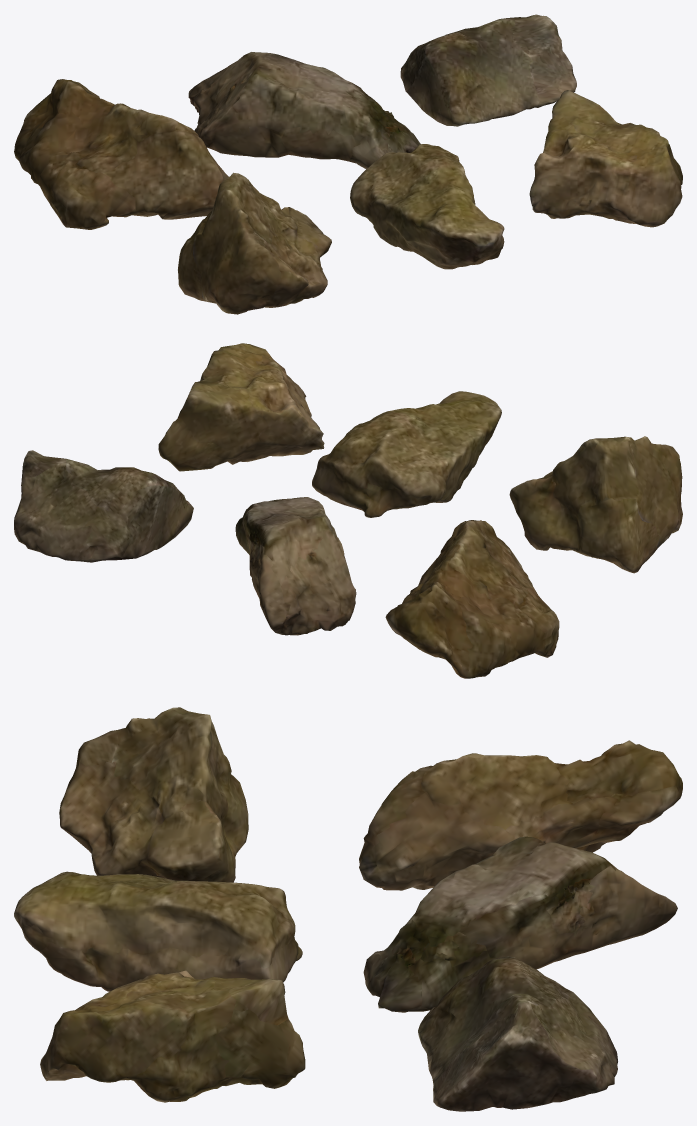
The model's file is rock_moss_set_01.glb.
The picture shows the model from 3 angles, top to bottom: view 1: azimuth 30°, elevation 25°; view 2: azimuth 150°, elevation 25°; view 3: azimuth 270°, elevation 25°; orthographic projection. The views are drawn at different scales.
Parts seen in each view (by area): view 1: rock_moss_set_01_rock01, rock_moss_set_01_rock02, rock_moss_set_01_rock06, rock_moss_set_01_rock04, rock_moss_set_01_rock03, rock_moss_set_01_rock05; view 2: rock_moss_set_01_rock04, rock_moss_set_01_rock01, rock_moss_set_01_rock05, rock_moss_set_01_rock03, rock_moss_set_01_rock06, rock_moss_set_01_rock02; view 3: rock_moss_set_01_rock01, rock_moss_set_01_rock02, rock_moss_set_01_rock05, rock_moss_set_01_rock04, rock_moss_set_01_rock06, rock_moss_set_01_rock03.
Part boxes in pixels (x1,y1,x2,y2): rock_moss_set_01_rock01: (14,79,228,229); rock_moss_set_01_rock02: (188,52,420,168); rock_moss_set_01_rock06: (529,90,682,227); rock_moss_set_01_rock04: (178,172,331,314); rock_moss_set_01_rock03: (400,14,576,126); rock_moss_set_01_rock05: (350,144,504,269); rock_moss_set_01_rock04: (509,436,682,573); rock_moss_set_01_rock01: (385,520,559,678); rock_moss_set_01_rock05: (312,391,501,517); rock_moss_set_01_rock03: (14,450,193,562); rock_moss_set_01_rock06: (158,343,324,471); rock_moss_set_01_rock02: (235,497,356,635); rock_moss_set_01_rock01: (359,740,682,890); rock_moss_set_01_rock02: (363,836,677,1012); rock_moss_set_01_rock05: (14,871,302,991); rock_moss_set_01_rock04: (59,707,248,882); rock_moss_set_01_rock06: (40,970,305,1102); rock_moss_set_01_rock03: (418,956,617,1111).
Bounding box in the file's own units: 8 × 1.76 × 6.94.
1 material, 1 textured.
